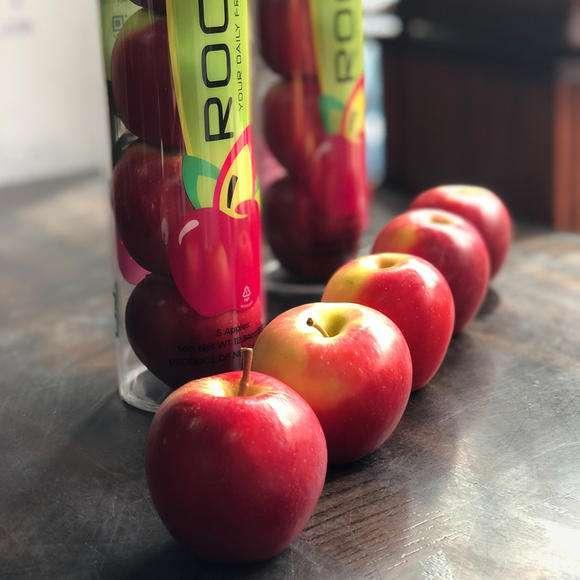apple: (144, 364, 329, 563), (248, 300, 409, 465), (320, 250, 456, 390), (369, 209, 489, 328), (412, 185, 512, 281)
